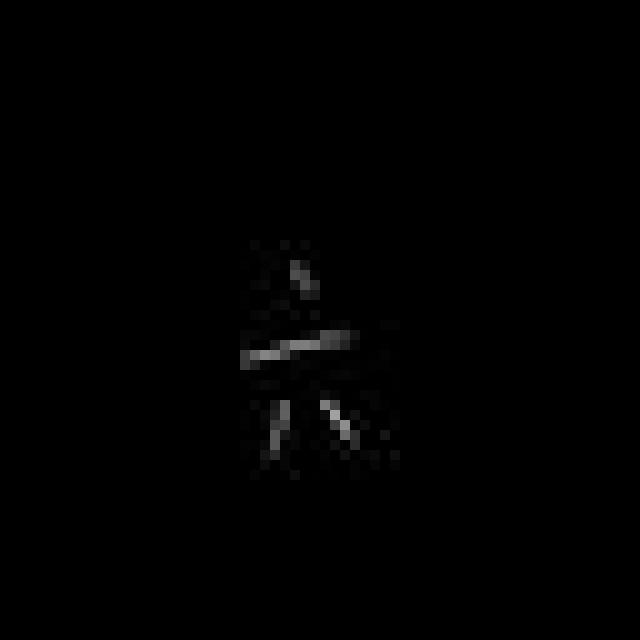6 -six-: (234, 259, 364, 474)
